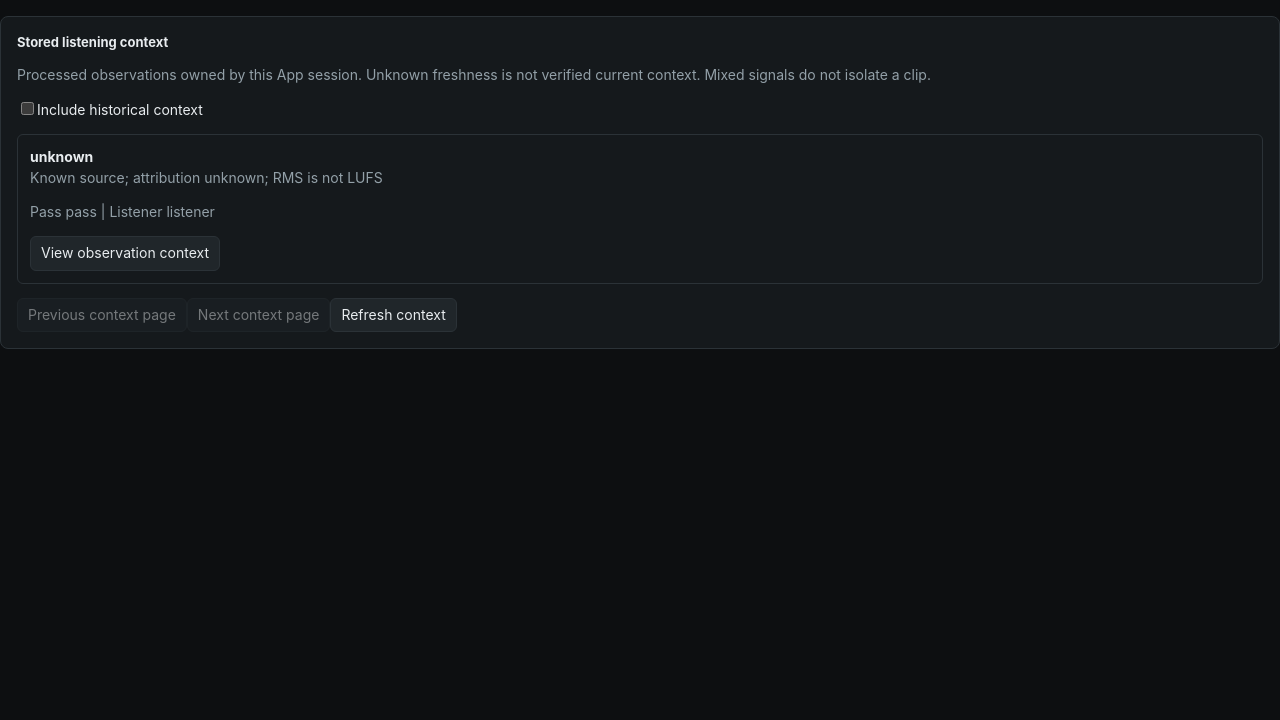
Test: stored listening context presentation › shows unknown freshness and requests detail only on demand
Click the button "View observation context". click: (125, 253)
box: [30,236,220,271]
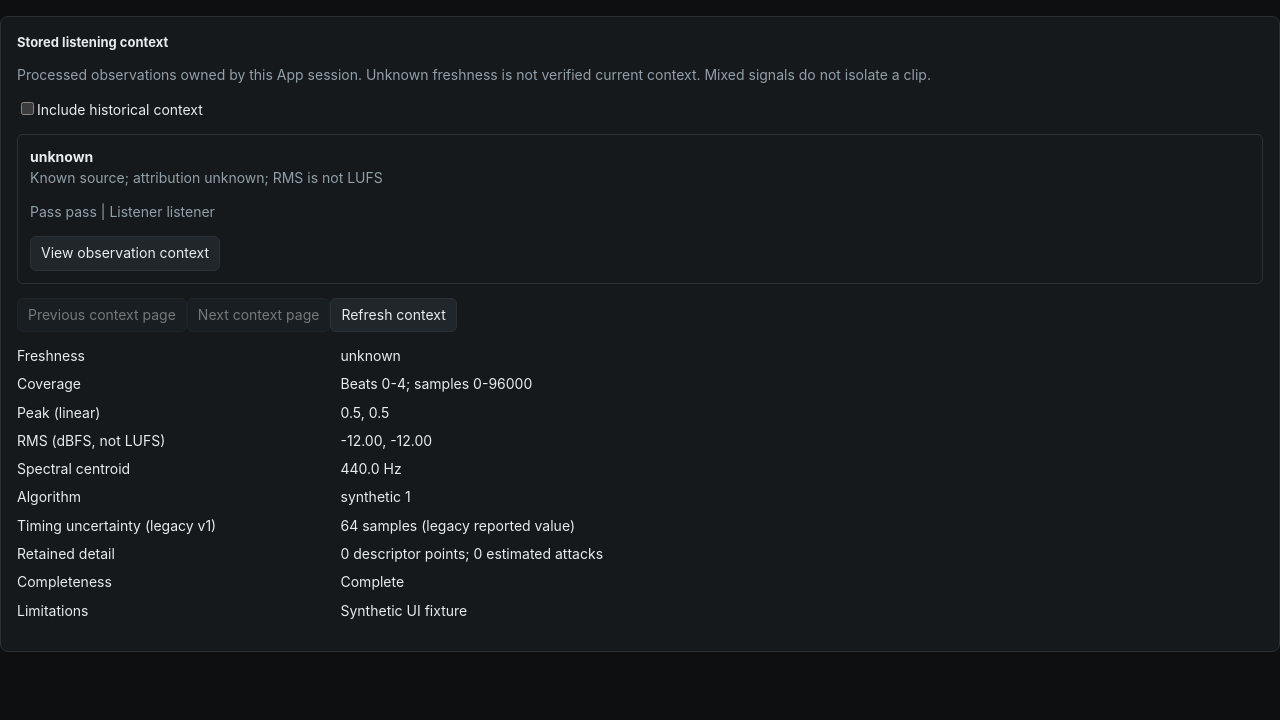
Now the text "440.0 Hz" is shown, box [340,460,402,477]
Now the text "Synthetic UI fixture" is shown, box [340,602,467,619]
Now the text "Timing uncertainty (legacy v1)" is shown, box [17,517,216,534]
